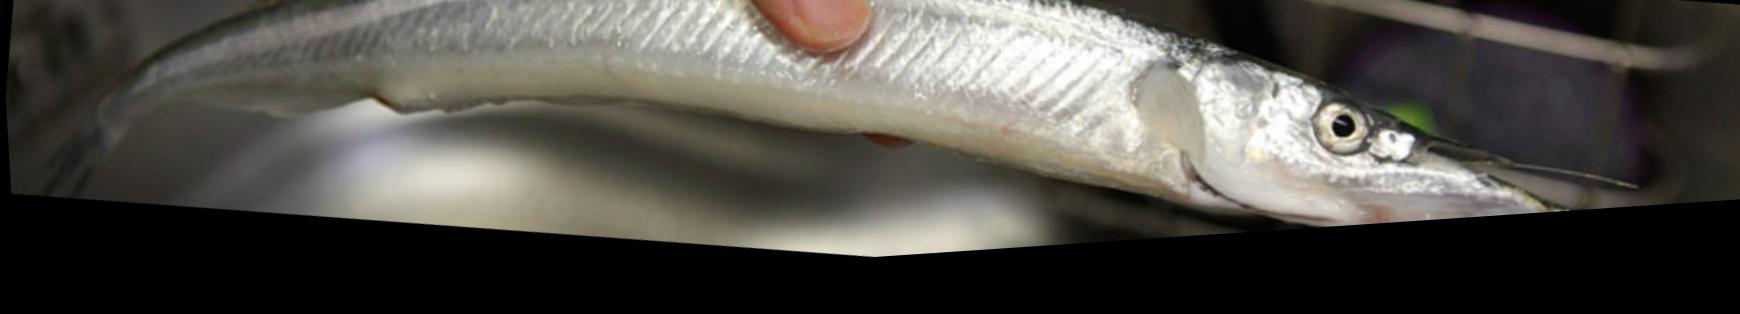fish: (34, 0, 1567, 246)
